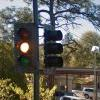Traffic light: (10, 17, 71, 77)
